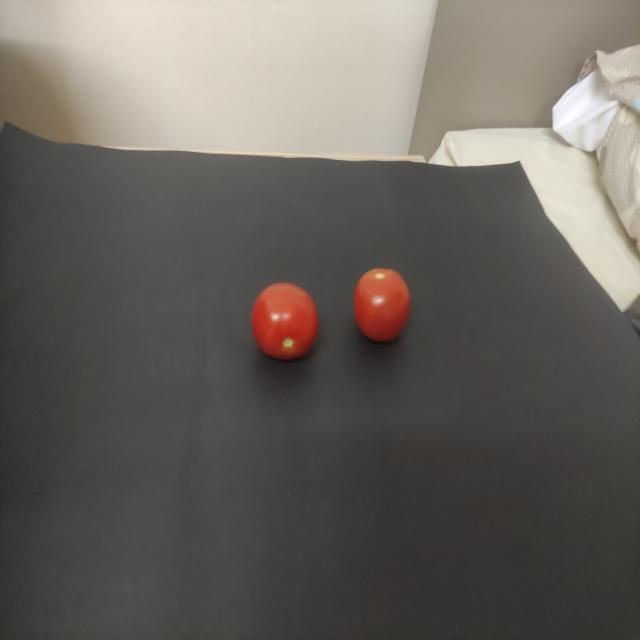kirmizi: (236, 269, 326, 369), (351, 262, 414, 379)
